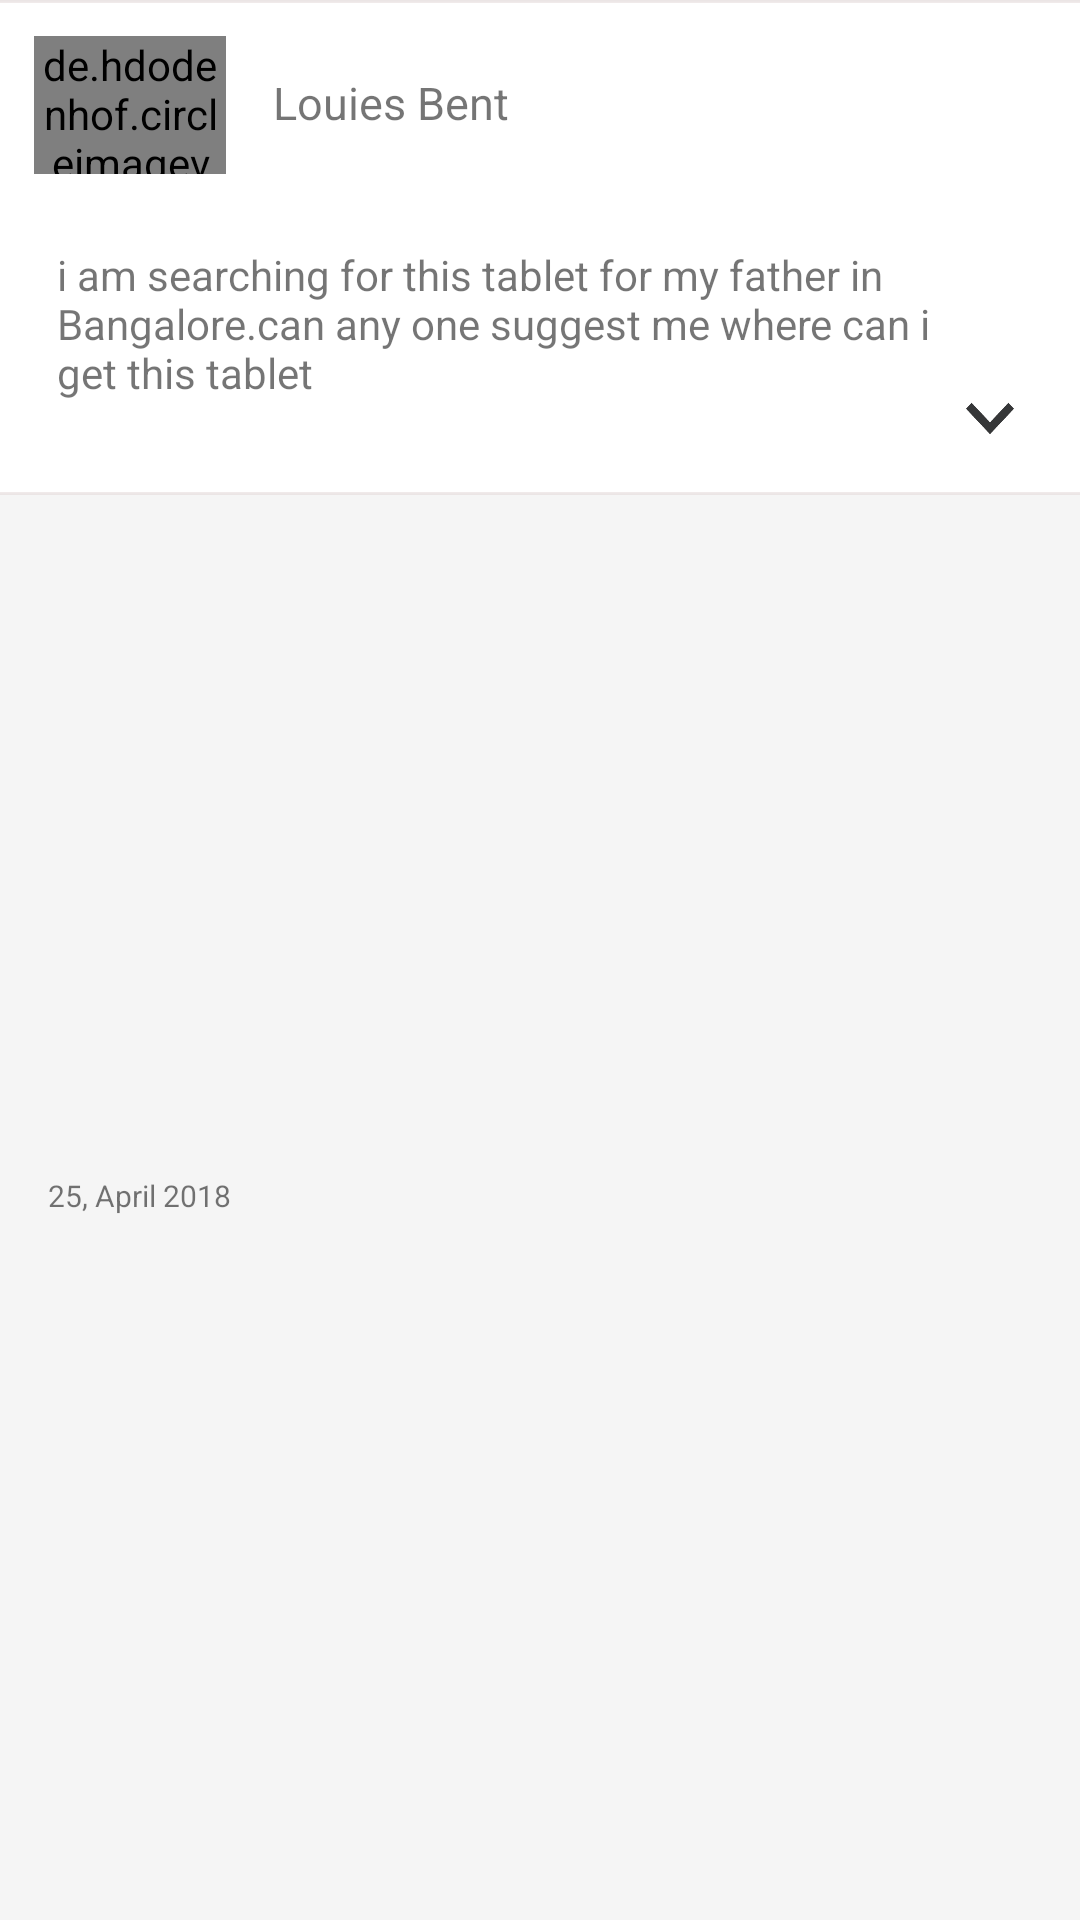

Where icons sit on this 1080 × 1920 app screen, as (left=x1, top=y1, right=x2, bottom=y2):
expand: (left=966, top=403, right=1014, bottom=434)
